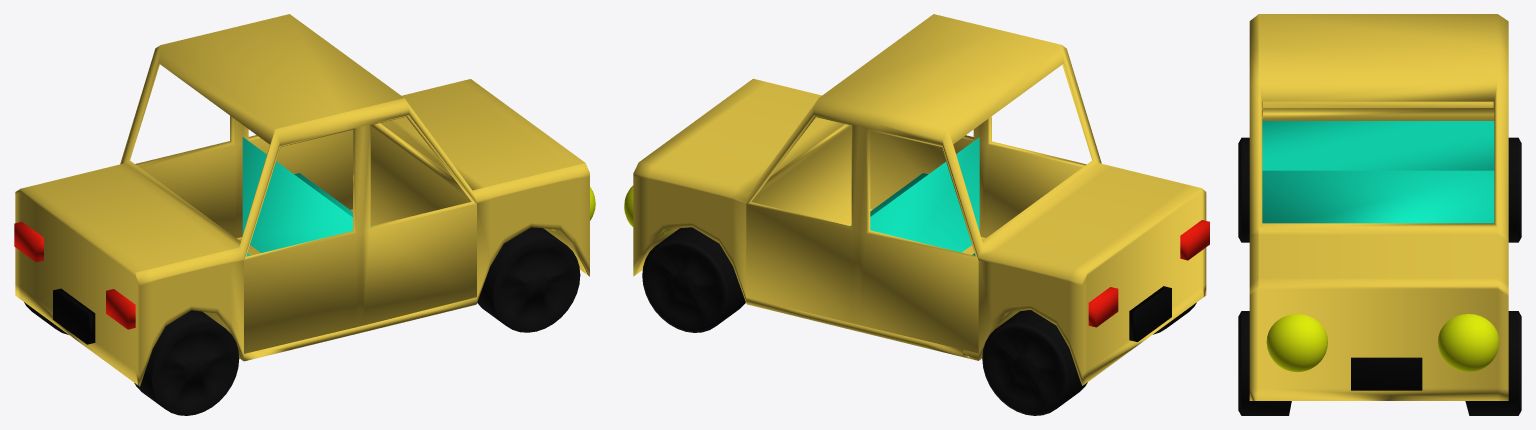
Rendered from car4.fbx.
3 renders of one model, left to right at view 1: azimuth 30°, elevation 25°; view 2: azimuth 150°, elevation 25°; view 3: azimuth 270°, elevation 25°, orthographic. The views are drawn at different scales.
Parts seen in each view (by area): view 1: body, frontwheel, backwheel, backnumber, backlight.001, backlight; view 2: body, frontwheel, backwheel, backnumber, backlight.001, backlight; view 3: body, frontwheel, frontlight, frontlight.001, backwheel, frontnumber.
Part boxes in pixels (x1,y1,x2,y2): body: (15,14,589,386); frontwheel: (477,227,580,332); backwheel: (24,302,239,415); backnumber: (53,288,95,344); backlight.001: (14,221,43,262); backlight: (106,289,135,329); body: (633,14,1206,385); frontwheel: (642,227,745,332); backwheel: (982,302,1196,415); backnumber: (1129,286,1171,341); backlight.001: (1088,287,1118,327); backlight: (1180,220,1209,260); body: (1249,14,1508,400); frontwheel: (1238,311,1521,415); frontlight: (1438,314,1499,372); frontlight.001: (1266,314,1327,372); backwheel: (1238,137,1521,242); frontnumber: (1351,357,1422,390).
Bounding box in the file's own units: 914 × 466 × 445.
